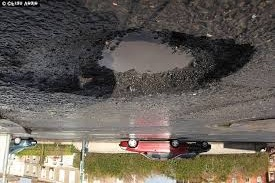pothole: (26, 12, 263, 107), (209, 111, 275, 132)
